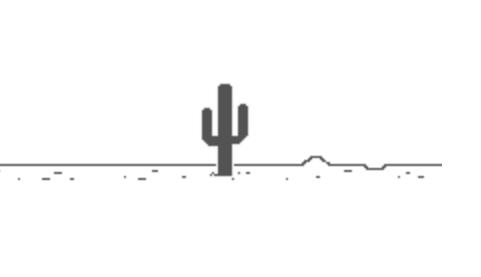cactus: (195, 79, 257, 184)
